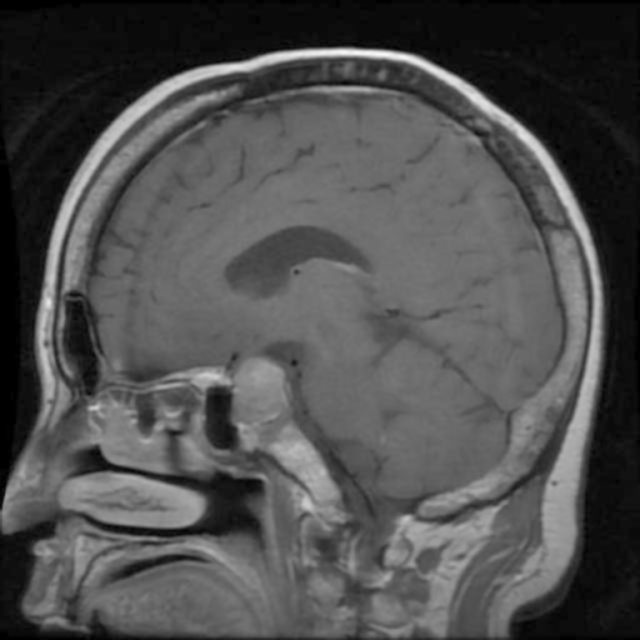no tumor: (235, 357, 295, 432)
